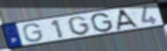1: (50, 19, 65, 39)
4: (140, 5, 158, 26)
A: (116, 8, 141, 31)
G: (90, 12, 115, 33), (67, 15, 92, 36), (22, 23, 45, 43)
